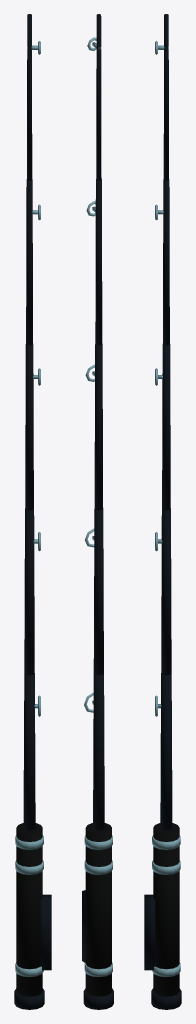
The model's file is trolling_rod.glb.
3 views of the same model, side by side, from view 1: azimuth 90°, elevation 25°; view 2: azimuth 210°, elevation 25°; view 3: azimuth 270°, elevation 25° (orthographic).
Parts seen in each view (by area): view 1: trolling_rod_Handle, trolling_rod_Segment1, trolling_rod_Segment2, trolling_rod_Segment3, trolling_rod_Segment4, trolling_rod_Segment5; view 2: trolling_rod_Handle, trolling_rod_Segment1, trolling_rod_Segment2, trolling_rod_Segment3, trolling_rod_Segment4, trolling_rod_Segment5; view 3: trolling_rod_Handle, trolling_rod_Segment1, trolling_rod_Segment2, trolling_rod_Segment3, trolling_rod_Segment4, trolling_rod_Segment5.
Part boxes in pixels (bbox=[...]): trolling_rod_Handle: bbox=[14, 823, 51, 1009]; trolling_rod_Segment1: bbox=[23, 673, 40, 830]; trolling_rod_Segment2: bbox=[24, 508, 40, 675]; trolling_rod_Segment3: bbox=[25, 344, 40, 510]; trolling_rod_Segment4: bbox=[26, 179, 40, 345]; trolling_rod_Segment5: bbox=[27, 14, 40, 180]; trolling_rod_Handle: bbox=[82, 823, 113, 1009]; trolling_rod_Segment1: bbox=[84, 673, 104, 830]; trolling_rod_Segment2: bbox=[85, 508, 103, 675]; trolling_rod_Segment3: bbox=[85, 344, 102, 510]; trolling_rod_Segment4: bbox=[86, 179, 102, 345]; trolling_rod_Segment5: bbox=[87, 14, 101, 180]; trolling_rod_Handle: bbox=[144, 823, 181, 1009]; trolling_rod_Segment1: bbox=[155, 673, 172, 830]; trolling_rod_Segment2: bbox=[155, 508, 171, 675]; trolling_rod_Segment3: bbox=[155, 344, 170, 510]; trolling_rod_Segment4: bbox=[155, 179, 169, 345]; trolling_rod_Segment5: bbox=[155, 14, 168, 180].
Size of the model in its own units: 0.0552 by 1.98 by 0.0676.
1 material, 1 textured.
